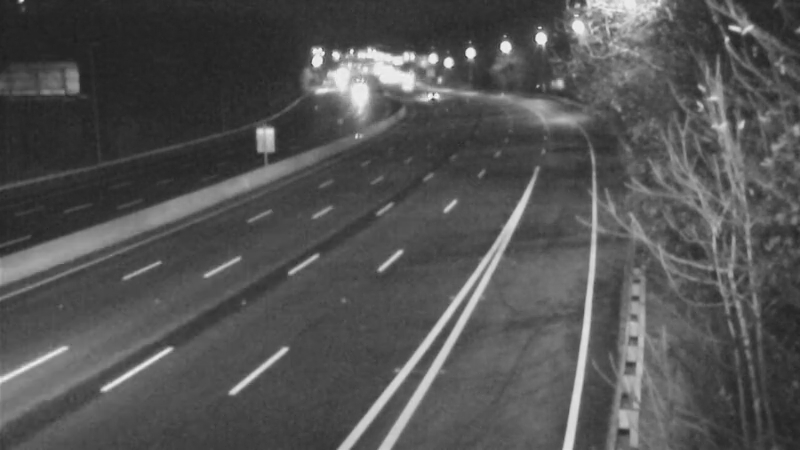vehicle: (406, 70, 456, 120), (333, 68, 383, 118)
